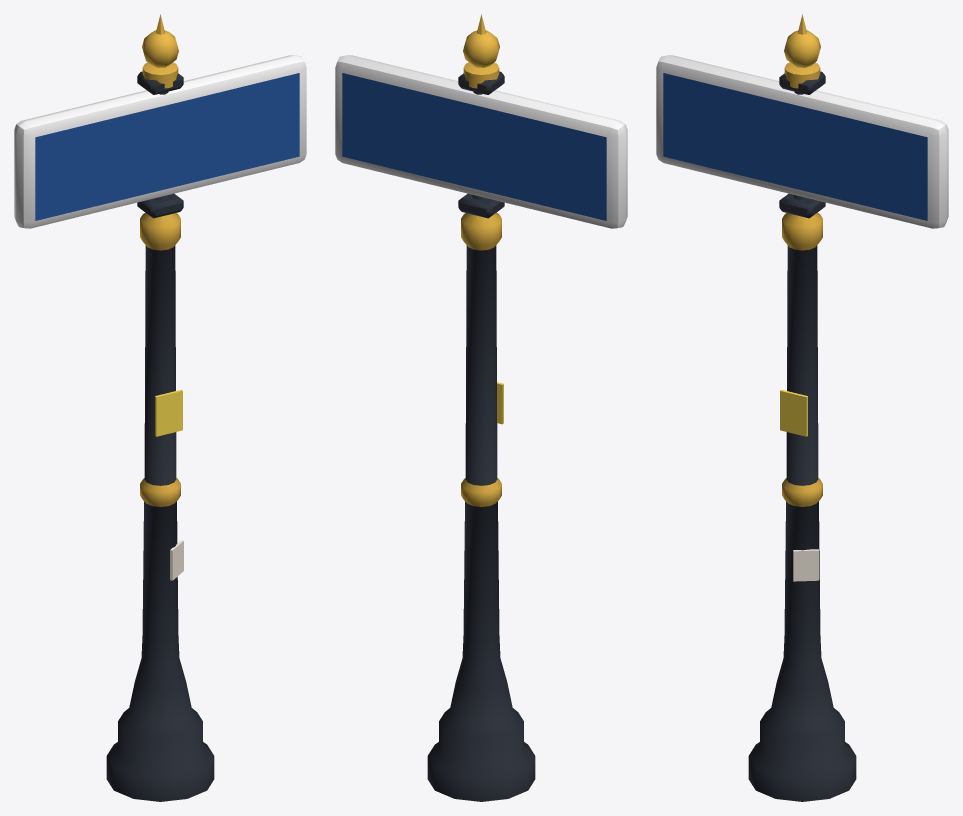
File: prop_soi_sign.glb
3 views of the same model, side by side, from view 1: azimuth 30°, elevation 25°; view 2: azimuth 150°, elevation 25°; view 3: azimuth 330°, elevation 25° (orthographic).
Visible parts, largest first — view 1: body, sign_face; view 2: body, sign_face; view 3: body, sign_face.
Boxes of the visible parts, <box> form: body: <box>14,14,306,801</box>; sign_face: <box>35,73,299,220</box>; body: <box>335,14,627,801</box>; sign_face: <box>342,73,606,220</box>; body: <box>656,14,948,801</box>; sign_face: <box>663,73,927,220</box>.
Bounding box in the file's own units: 1.3 × 3.29 × 0.42.
